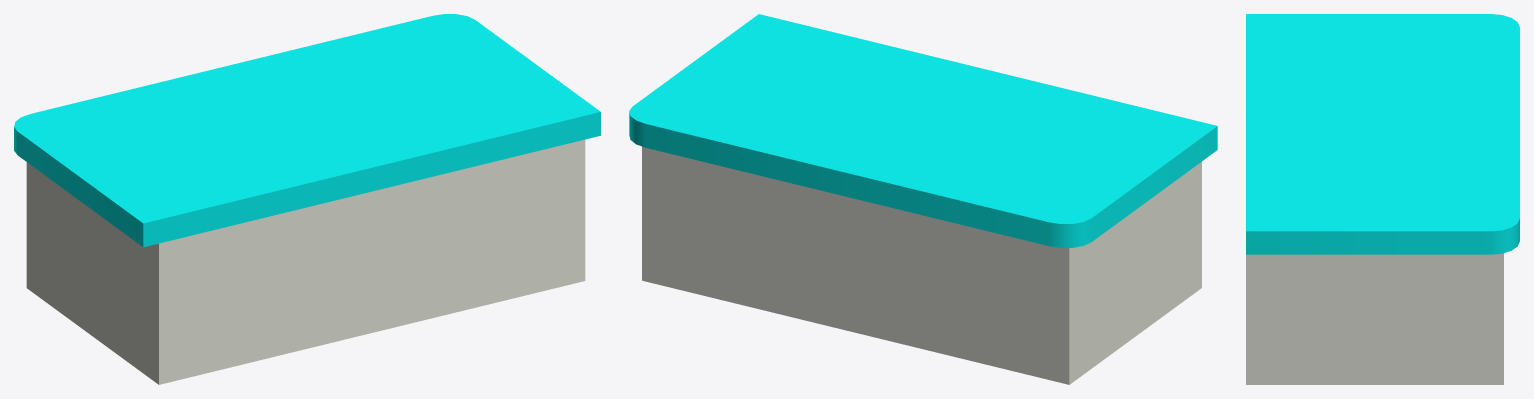
The model's file is TableB11_geo.fbx.
The picture shows the model from 3 angles, left to right: view 1: azimuth 30°, elevation 25°; view 2: azimuth 150°, elevation 25°; view 3: azimuth 270°, elevation 25°; orthographic projection. The views are drawn at different scales.
Visible parts, largest first — view 1: TableB11_geo; view 2: TableB11_geo; view 3: TableB11_geo.
Part boxes in pixels (<box>): TableB11_geo: <box>14,14,600,384</box>; TableB11_geo: <box>629,14,1217,384</box>; TableB11_geo: <box>1246,14,1519,384</box>.
Bounding box in the file's own units: 1.97 × 1.05 × 0.6803.
